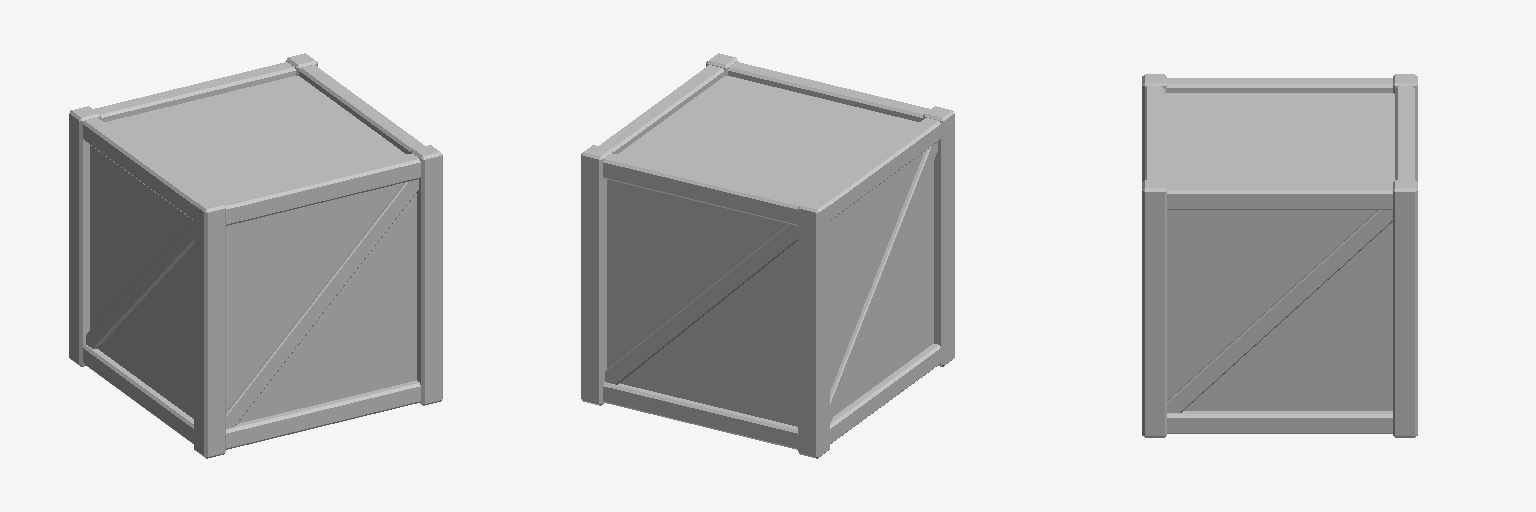
Rendered from WoodenBoxOpen02.obj.
3 views of the same model, side by side, from view 1: azimuth 30°, elevation 25°; view 2: azimuth 150°, elevation 25°; view 3: azimuth 270°, elevation 25° (orthographic).
Parts seen in each view (by area): view 1: WoodenBox_Cube.001, WoodenBox_Cube; view 2: WoodenBox_Cube.001, WoodenBox_Cube; view 3: WoodenBox_Cube.001, WoodenBox_Cube.
Part boxes in pixels (x1,y1,x2,y2): WoodenBox_Cube.001: (90, 76, 416, 423); WoodenBox_Cube: (69, 53, 442, 458); WoodenBox_Cube.001: (607, 76, 933, 426); WoodenBox_Cube: (581, 53, 954, 458); WoodenBox_Cube.001: (1165, 93, 1394, 410); WoodenBox_Cube: (1142, 74, 1417, 437).
Bounding box in the file's own units: 1 × 1 × 1.